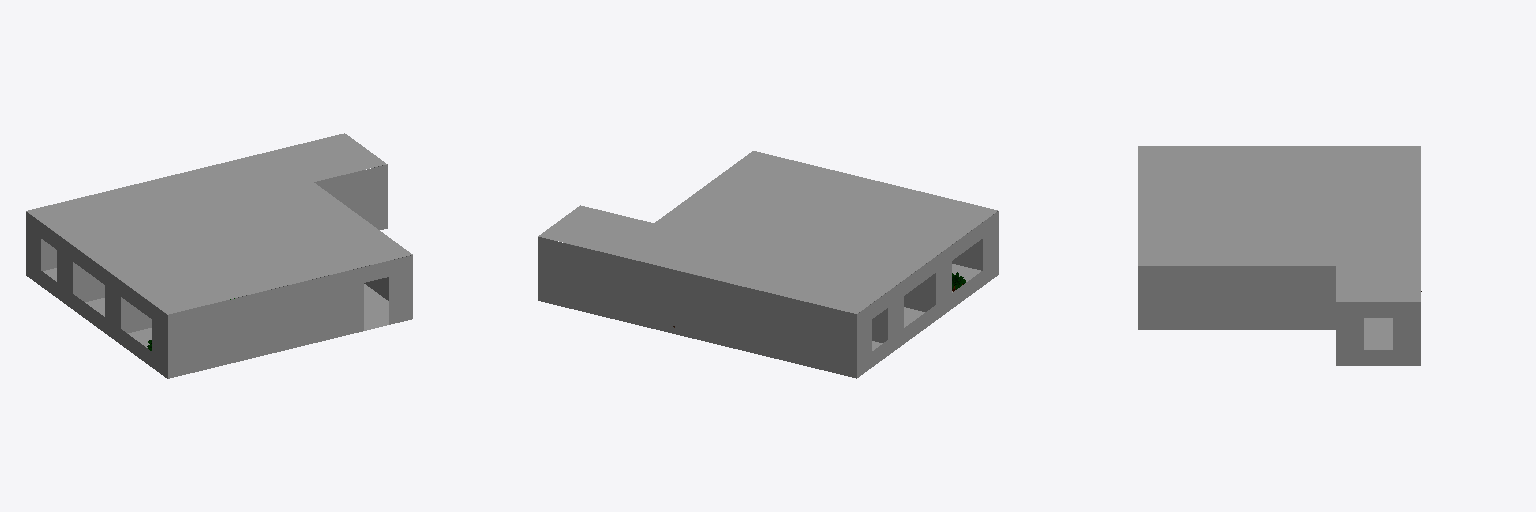
Rendered from Flatac3.obj.
The picture shows the model from 3 angles: view 1: azimuth 30°, elevation 25°; view 2: azimuth 150°, elevation 25°; view 3: azimuth 270°, elevation 25°; orthographic projection.
Visible parts, largest first — view 1: Plane006, Line001, Plane004, Plane005, Line002, Plane003, Line009_wtw; view 2: Line001, Plane006, Plane004, Plane005, Line009_wtw; view 3: Plane006, Line002, Plane004, Plane005, Line001, Plane001.
Part boxes in pixels (x1,y1,x2,y2): Plane006: (69, 182, 412, 314); Line001: (26, 164, 387, 378); Plane004: (27, 169, 238, 241); Plane005: (198, 133, 386, 199); Line002: (339, 255, 412, 336); Plane003: (85, 284, 388, 347); Line009_wtw: (112, 274, 226, 333); Line001: (538, 211, 998, 378); Plane006: (655, 151, 997, 282); Plane004: (686, 241, 898, 313); Plane005: (538, 205, 726, 271); Line009_wtw: (900, 252, 941, 311); Plane006: (1138, 146, 1335, 265); Line002: (1138, 266, 1335, 329); Plane004: (1336, 146, 1420, 229); Plane005: (1336, 230, 1420, 301); Line001: (1336, 302, 1420, 365); Plane001: (1364, 318, 1392, 349).
Size of the model in its own units: 15.16 by 2.93 by 11.71.